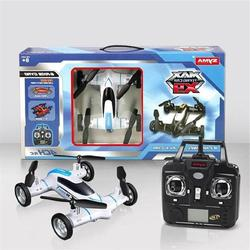drone: (14, 154, 138, 241), (74, 69, 141, 144), (149, 96, 208, 139)
